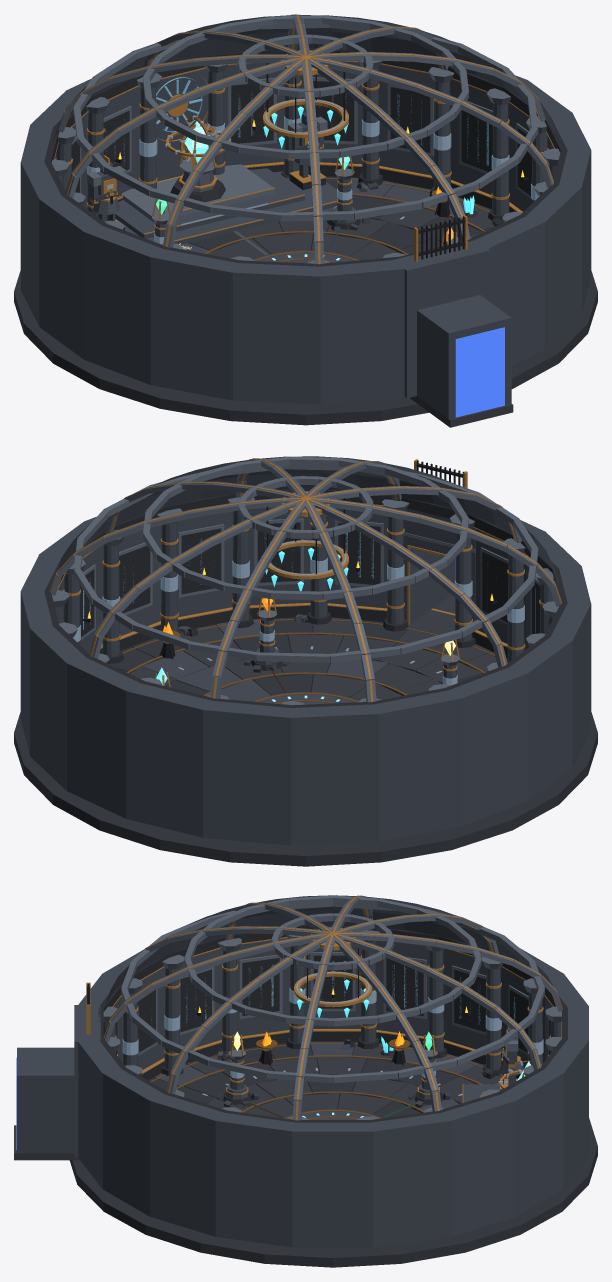
The model's file is Virelune_BossRoom_SealedSanctum.glb.
3 views of the same model, one above another, from view 1: azimuth 30°, elevation 25°; view 2: azimuth 150°, elevation 25°; view 3: azimuth 270°, elevation 25° (orthographic). The views are drawn at different scales.
Visible parts, largest first — view 1: Wall_Ring, Ceiling_Ribs, Wall_Front_Entrance, Floor_Subslab, Floor_Flagstones, Wall_Reliefs, Dais_Steps, Wall_Trim, Ceiling_Shell, Column_05, Column_07, Column_06 (+15 smaller); view 2: Wall_Ring, Ceiling_Ribs, Floor_Flagstones, Floor_Subslab, Wall_Reliefs, Wall_Trim, Ceiling_Shell, Wall_Front_Entrance, Column_00, Column_04, Column_03, Column_18 (+11 smaller); view 3: Wall_Ring, Ceiling_Ribs, Floor_Flagstones, Floor_Subslab, Wall_Reliefs, Wall_Front_Entrance, Wall_Trim, Ceiling_Shell, Column_17, Column_12, Column_16, Column_13 (+10 smaller).
Boxes of the visible parts, bbox=[...] form: Wall_Ring: bbox=[20, 61, 591, 404]; Ceiling_Ribs: bbox=[58, 14, 553, 264]; Wall_Front_Entrance: bbox=[391, 238, 511, 418]; Floor_Subslab: bbox=[14, 271, 597, 425]; Floor_Flagstones: bbox=[180, 176, 513, 427]; Wall_Reliefs: bbox=[71, 77, 531, 198]; Dais_Steps: bbox=[115, 164, 337, 244]; Wall_Trim: bbox=[44, 48, 567, 266]; Ceiling_Shell: bbox=[52, 15, 555, 142]; Column_05: bbox=[487, 88, 510, 221]; Column_07: bbox=[358, 60, 383, 185]; Column_06: bbox=[428, 67, 454, 196]; Wall_Ring: bbox=[20, 506, 591, 845]; Ceiling_Ribs: bbox=[50, 456, 561, 702]; Floor_Flagstones: bbox=[108, 595, 507, 843]; Floor_Subslab: bbox=[14, 624, 597, 866]; Wall_Reliefs: bbox=[80, 518, 540, 640]; Wall_Trim: bbox=[44, 489, 567, 707]; Ceiling_Shell: bbox=[57, 456, 559, 583]; Wall_Front_Entrance: bbox=[400, 497, 475, 625]; Column_00: bbox=[382, 499, 409, 631]; Column_04: bbox=[102, 529, 123, 663]; Column_03: bbox=[157, 508, 182, 633]; Column_18: bbox=[503, 538, 525, 662]; Wall_Ring: bbox=[77, 938, 588, 1247]; Ceiling_Ribs: bbox=[103, 895, 562, 1120]; Floor_Flagstones: bbox=[14, 1041, 506, 1160]; Floor_Subslab: bbox=[69, 1118, 597, 1267]; Wall_Reliefs: bbox=[115, 952, 550, 1056]; Wall_Front_Entrance: bbox=[16, 1005, 103, 1157]; Wall_Trim: bbox=[100, 925, 567, 1122]; Ceiling_Shell: bbox=[104, 895, 553, 1006]; Column_17: bbox=[161, 954, 184, 1075]; Column_12: bbox=[482, 956, 503, 1075]; Column_16: bbox=[218, 938, 241, 1053]; Column_13: bbox=[426, 945, 446, 1058].
Size of the model in its own units: 35.2 by 16.29 by 38.8.
